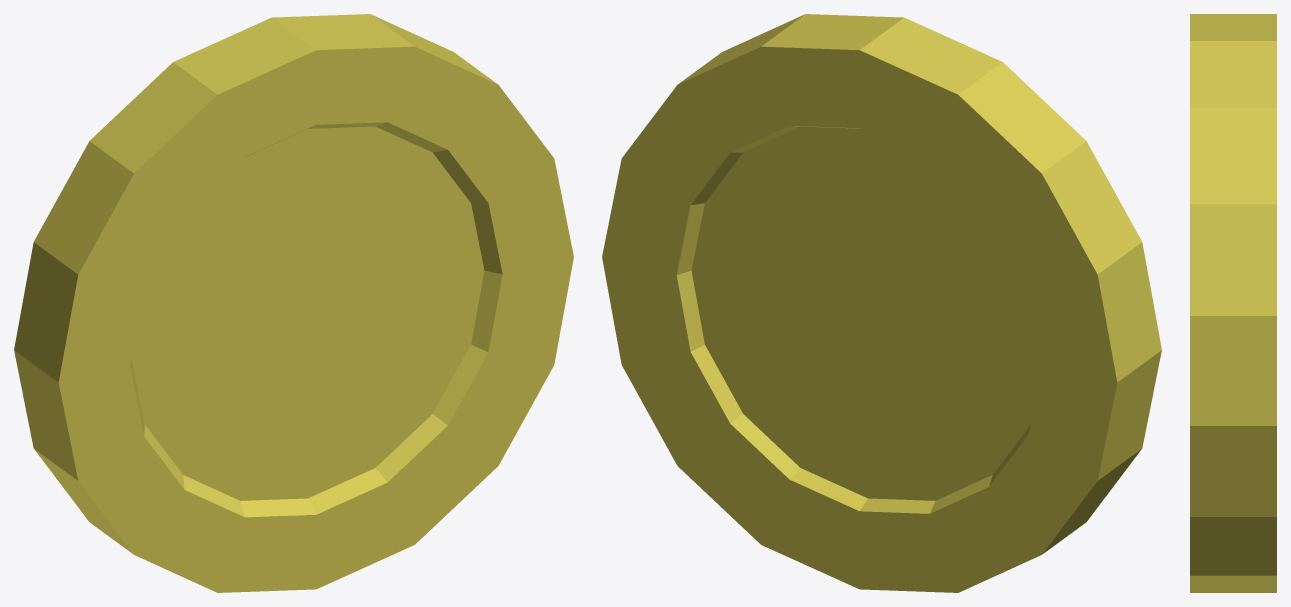
Rendered from monedas.fbx.
The picture shows the model from 3 angles, left to right: view 1: azimuth 30°, elevation 25°; view 2: azimuth 150°, elevation 25°; view 3: azimuth 270°, elevation 25°; orthographic projection. The views are drawn at different scales.
Parts seen in each view (by area): view 1: pCylinder1; view 2: pCylinder1; view 3: pCylinder1.
Part boxes in pixels (left/top/right/bottom): pCylinder1: left=14, top=14, right=573, bottom=592; pCylinder1: left=602, top=14, right=1161, bottom=592; pCylinder1: left=1190, top=14, right=1276, bottom=592.
Bounding box in the file's own units: 1 × 1 × 0.15.
